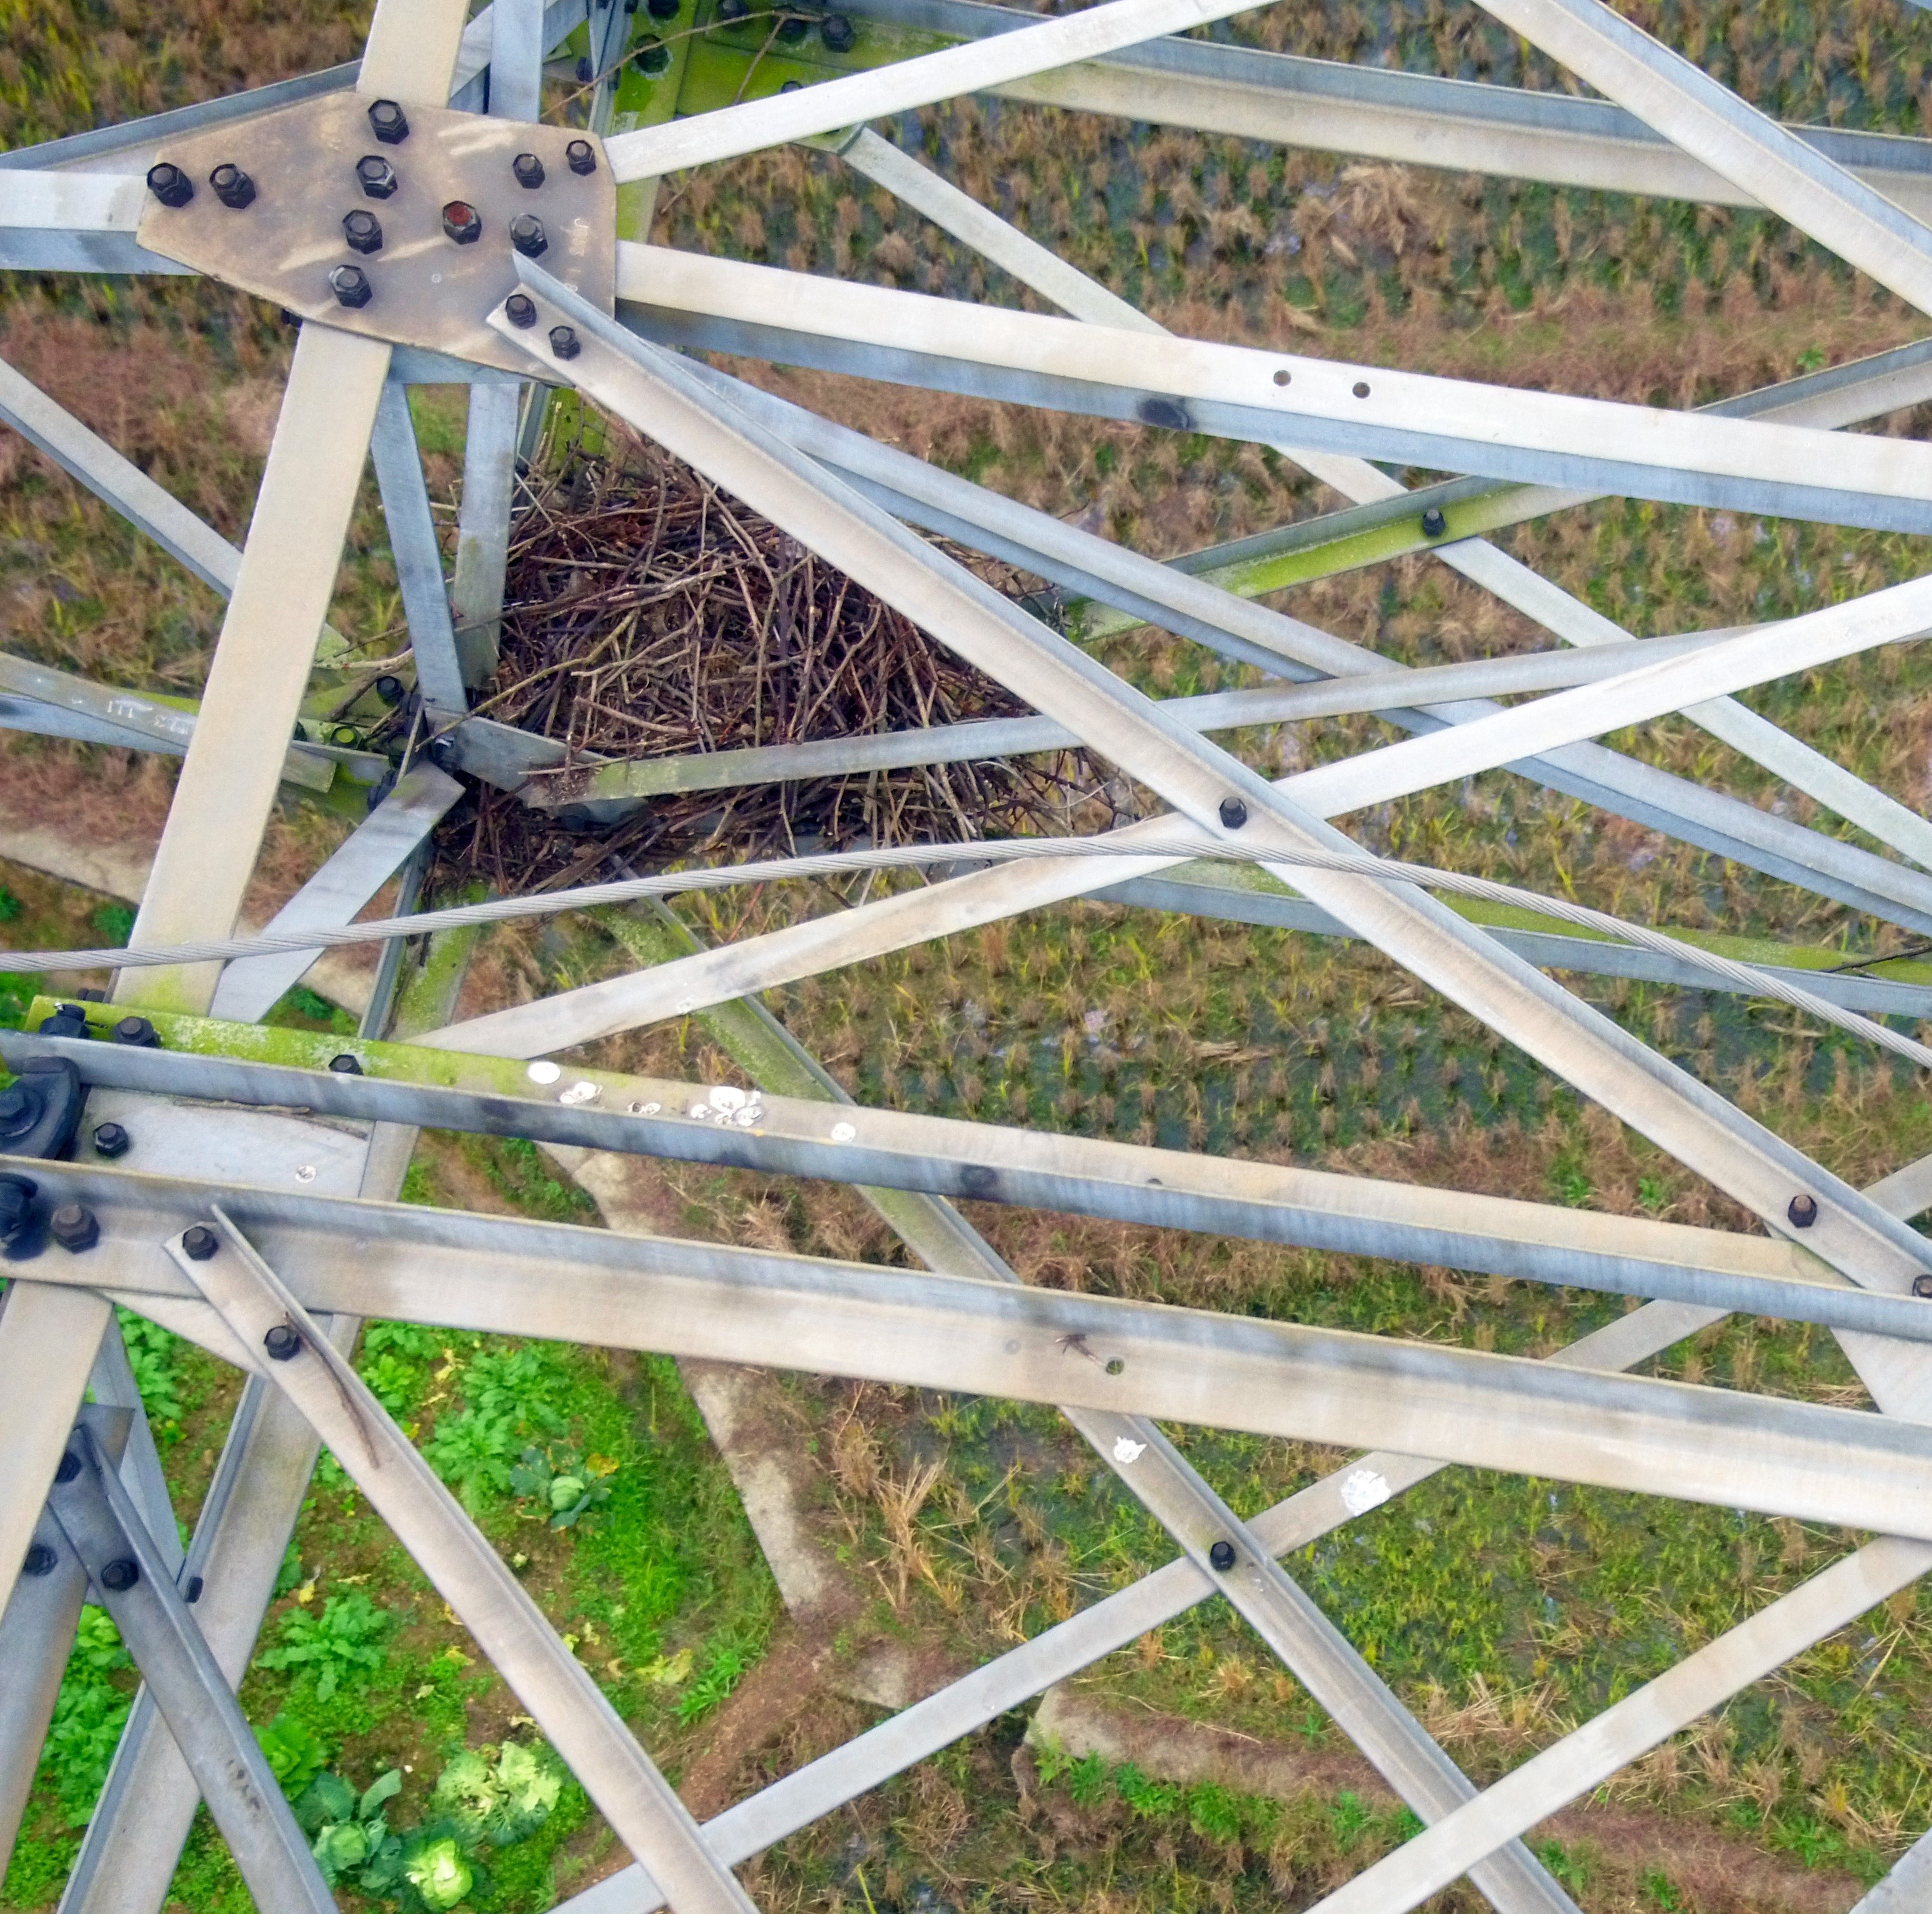niaowo: (373, 424, 1085, 906)
